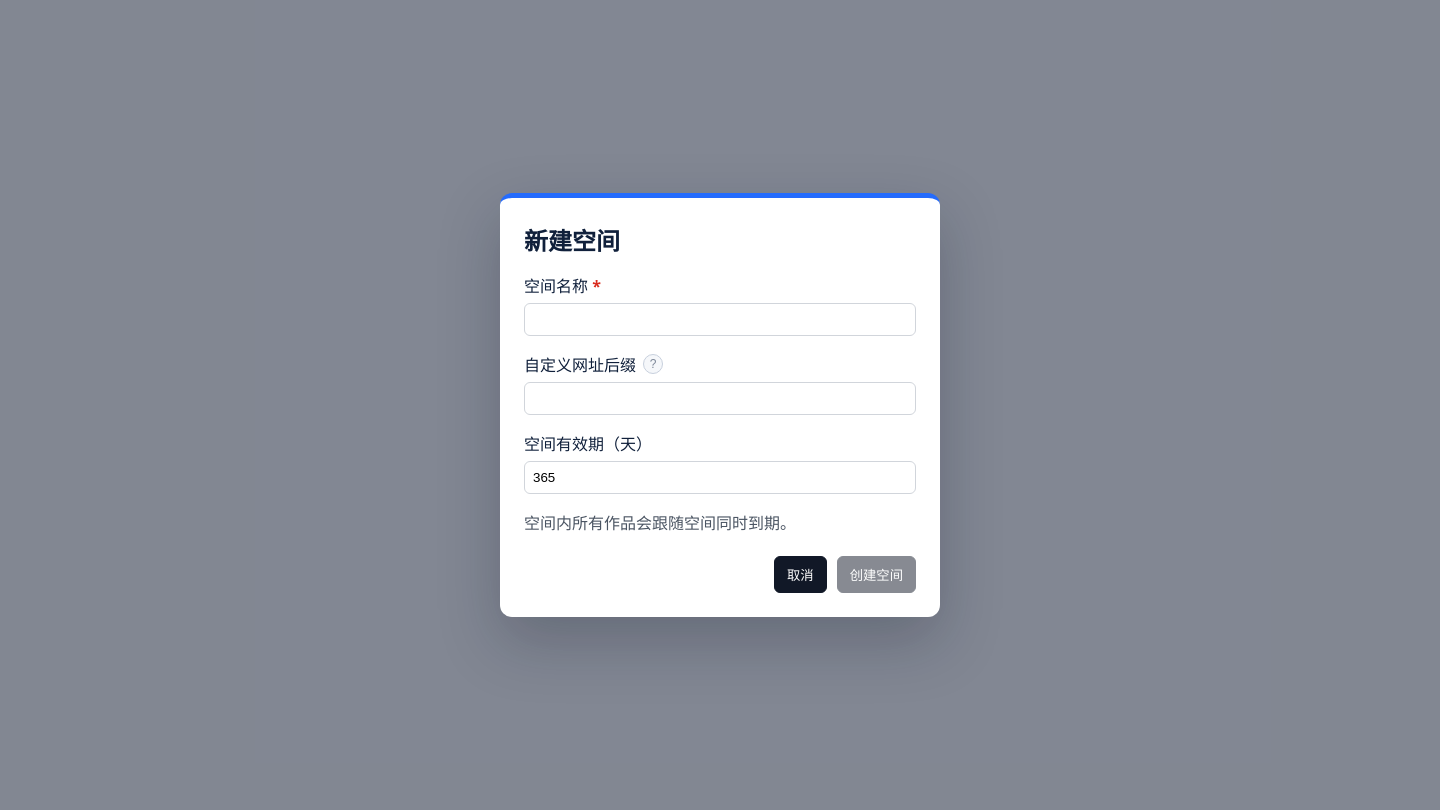
CreateSpaceModal › shows the server error when creation fails
In the field labelled "空间名称": {"x": 720, "y": 320} [524,303,916,336], type "作品空间"
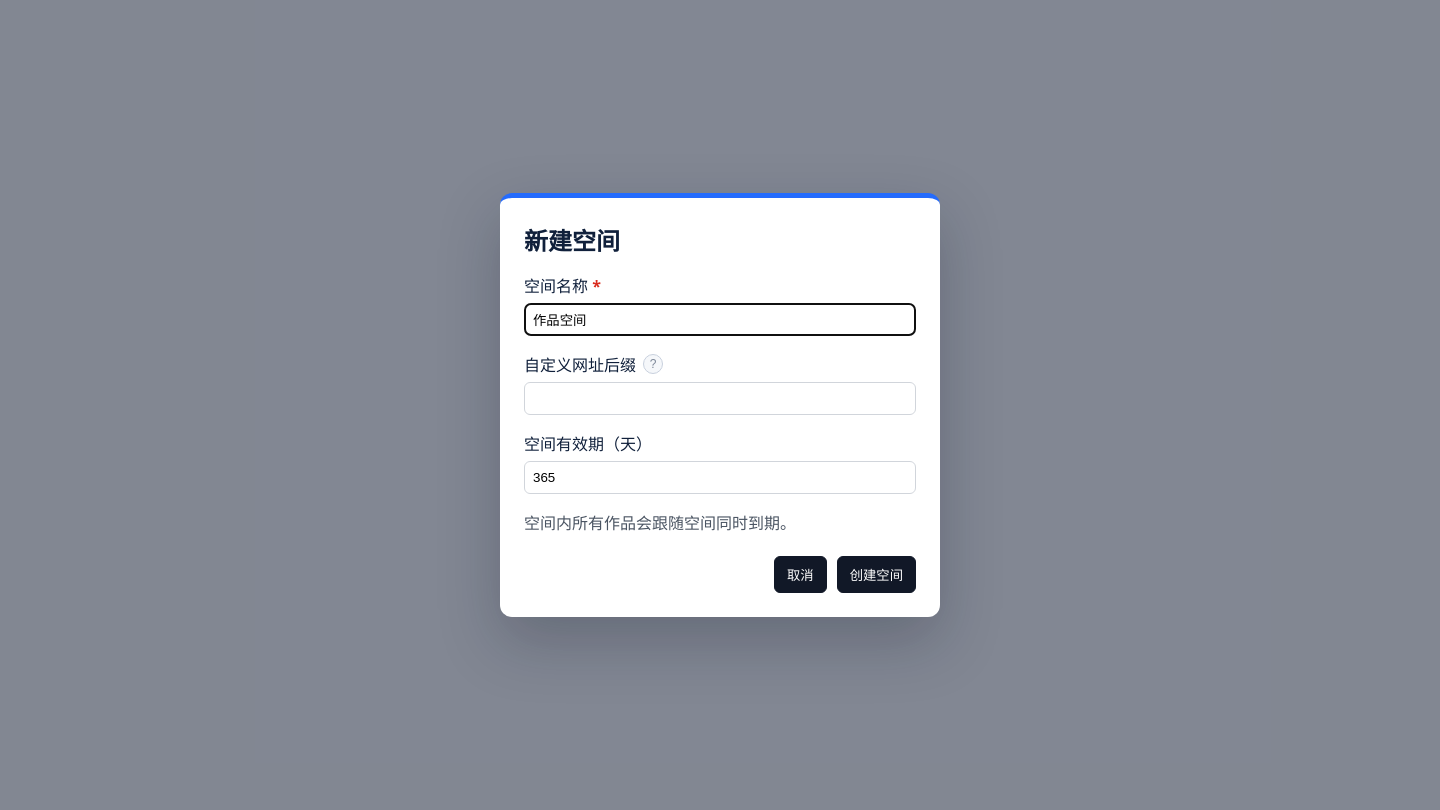
Click the button "创建空间": {"x": 876, "y": 574} [837,556,916,593]
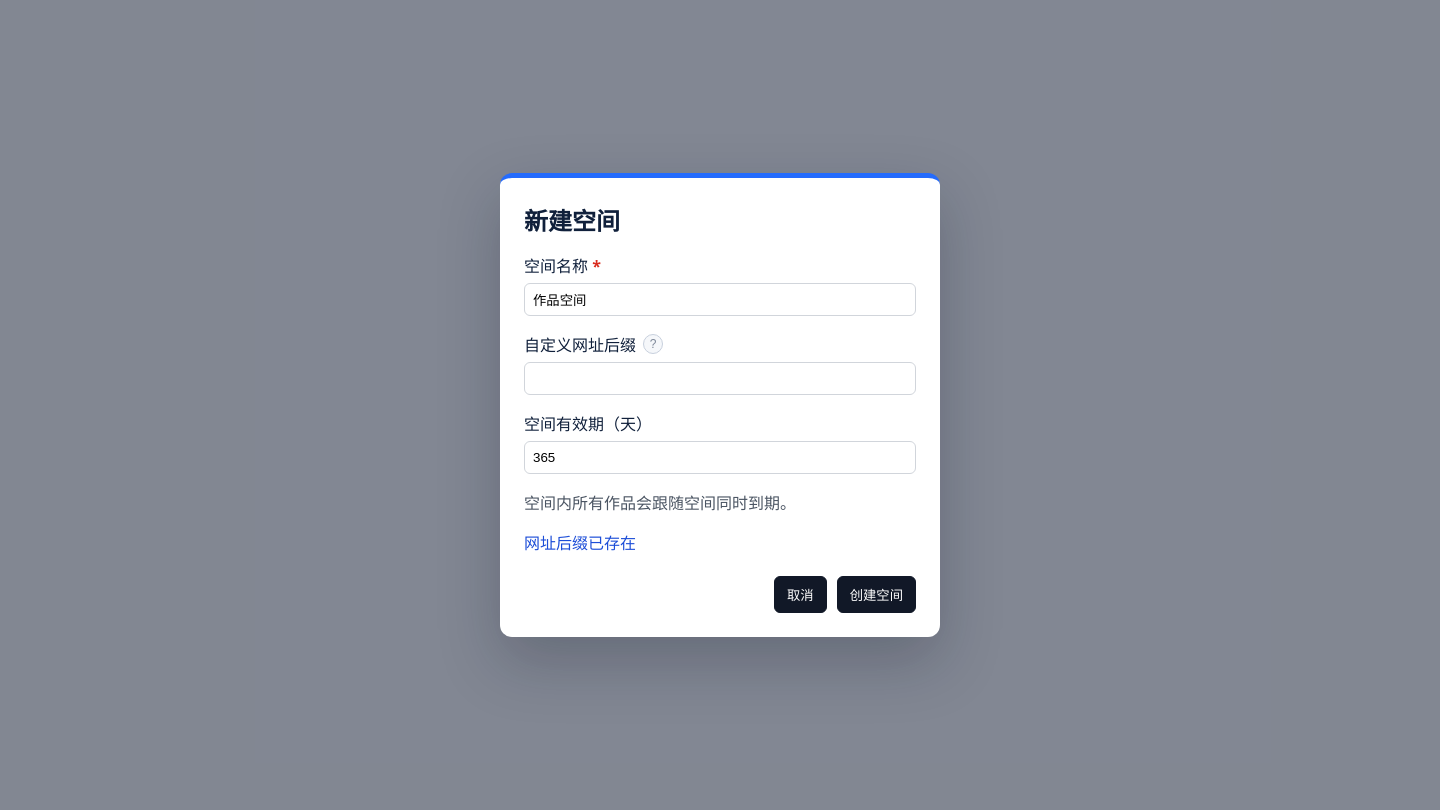
Check: the message reads "网址后缀已存在", box [524,532,636,554]
